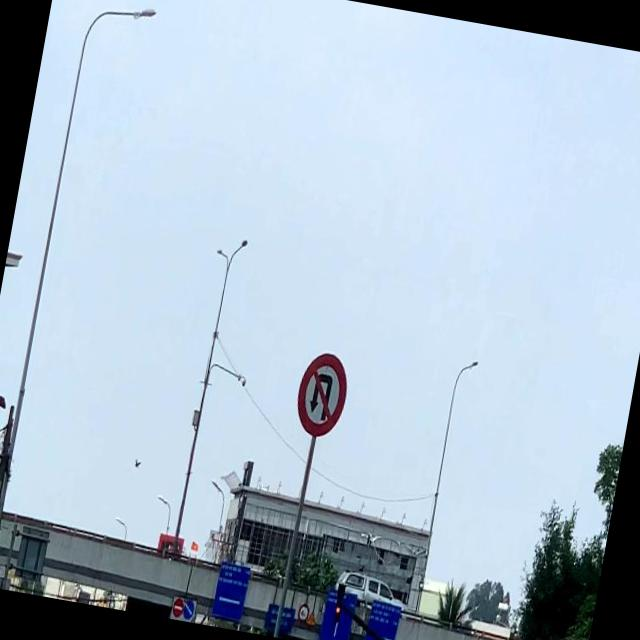P-124a1: (288, 346, 352, 441)
